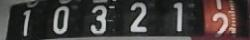digits: (128, 1, 147, 31), (88, 4, 107, 34), (52, 6, 69, 34), (210, 12, 228, 38), (172, 1, 182, 31), (22, 9, 31, 35)
